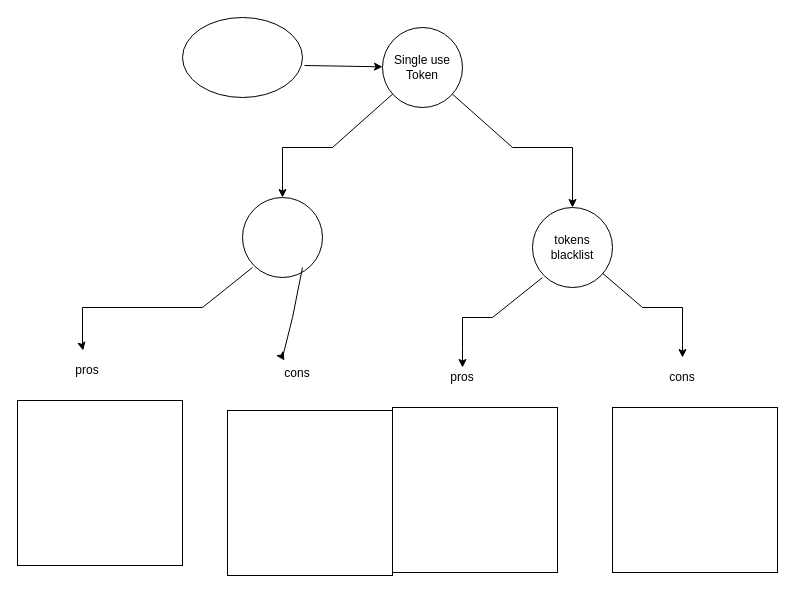
The diagram is 795 pixels wide and 593 high, and some of its shapes have lost their labels. Here are the shapes that lost their labels. From the top down, the centre of each, then its label:
At [242,57]: "Password reset".
At [282,237]: "sign token with current pass".
